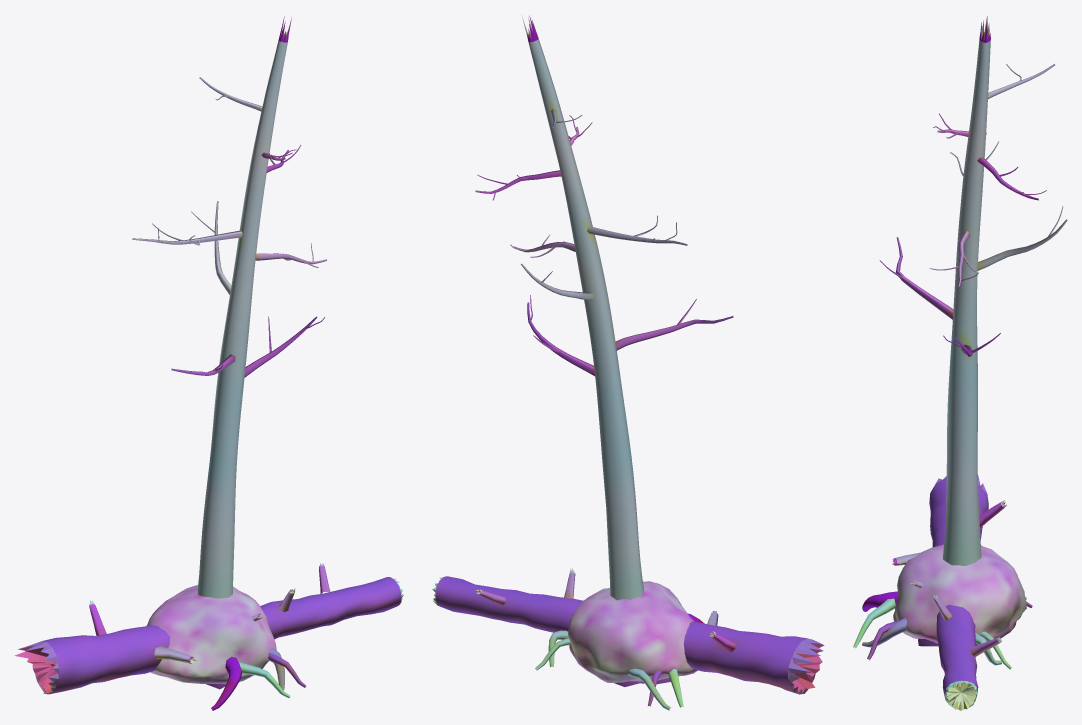
Rendered from forest-props.glb.
The picture shows the model from 3 angles, left to right: view 1: azimuth 30°, elevation 25°; view 2: azimuth 150°, elevation 25°; view 3: azimuth 270°, elevation 25°; orthographic projection. The views are drawn at different scales.
Visible parts, largest first — view 1: snag, log, boulder_a, stump; view 2: snag, log, boulder_a, stump; view 3: snag, boulder_a, log, stump.
Part boxes in pixels (<box>): snag: <box>132,16,326,598</box>; log: <box>14,563,403,694</box>; boulder_a: <box>146,585,276,683</box>; stump: <box>206,648,306,710</box>; snag: <box>475,15,733,600</box>; log: <box>432,568,824,694</box>; boulder_a: <box>568,581,697,682</box>; stump: <box>535,613,704,710</box>; snag: <box>879,16,1067,566</box>; boulder_a: <box>893,544,1026,645</box>; log: <box>892,475,1006,710</box>; stump: <box>853,588,1032,669</box>.
Size of the model in its own units: 7.42 by 11.78 by 3.44.
